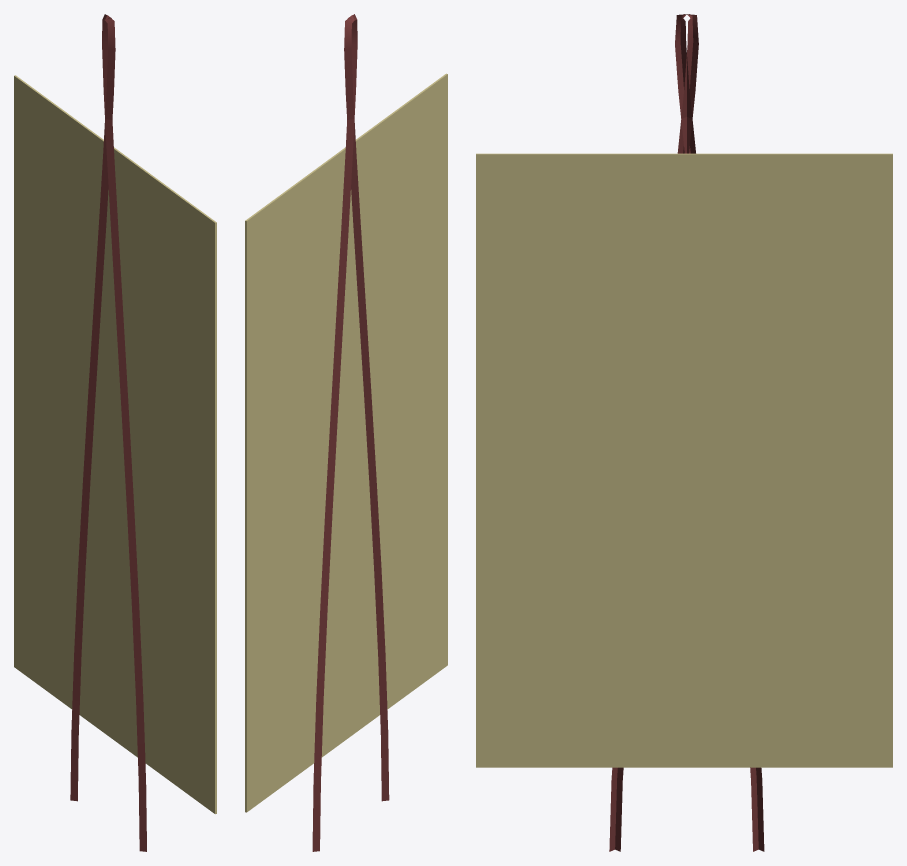
Rendered from balsatop.fbx.
The picture shows the model from 3 angles, left to right: view 1: azimuth 30°, elevation 25°; view 2: azimuth 150°, elevation 25°; view 3: azimuth 270°, elevation 25°; orthographic projection. The views are drawn at different scales.
Visible parts, largest first — view 1: Plane.003, BezierCurve.016; view 2: Plane.003, BezierCurve.016; view 3: Plane.003, BezierCurve.016.
Part boxes in pixels (left/top/right/bottom): Plane.003: left=14, top=75, right=216, bottom=814; BezierCurve.016: left=70, top=14, right=146, bottom=851; Plane.003: left=245, top=73, right=447, bottom=812; BezierCurve.016: left=312, top=14, right=389, bottom=851; Plane.003: left=476, top=153, right=892, bottom=767; BezierCurve.016: left=609, top=14, right=764, bottom=851.
Size of the model in its own units: 1.44 by 110 by 49.41.
